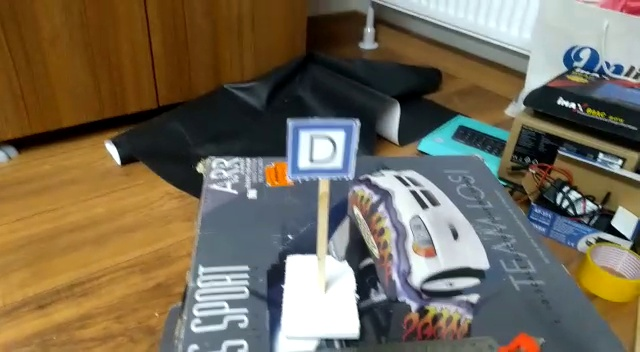durak: (291, 120, 349, 174)
